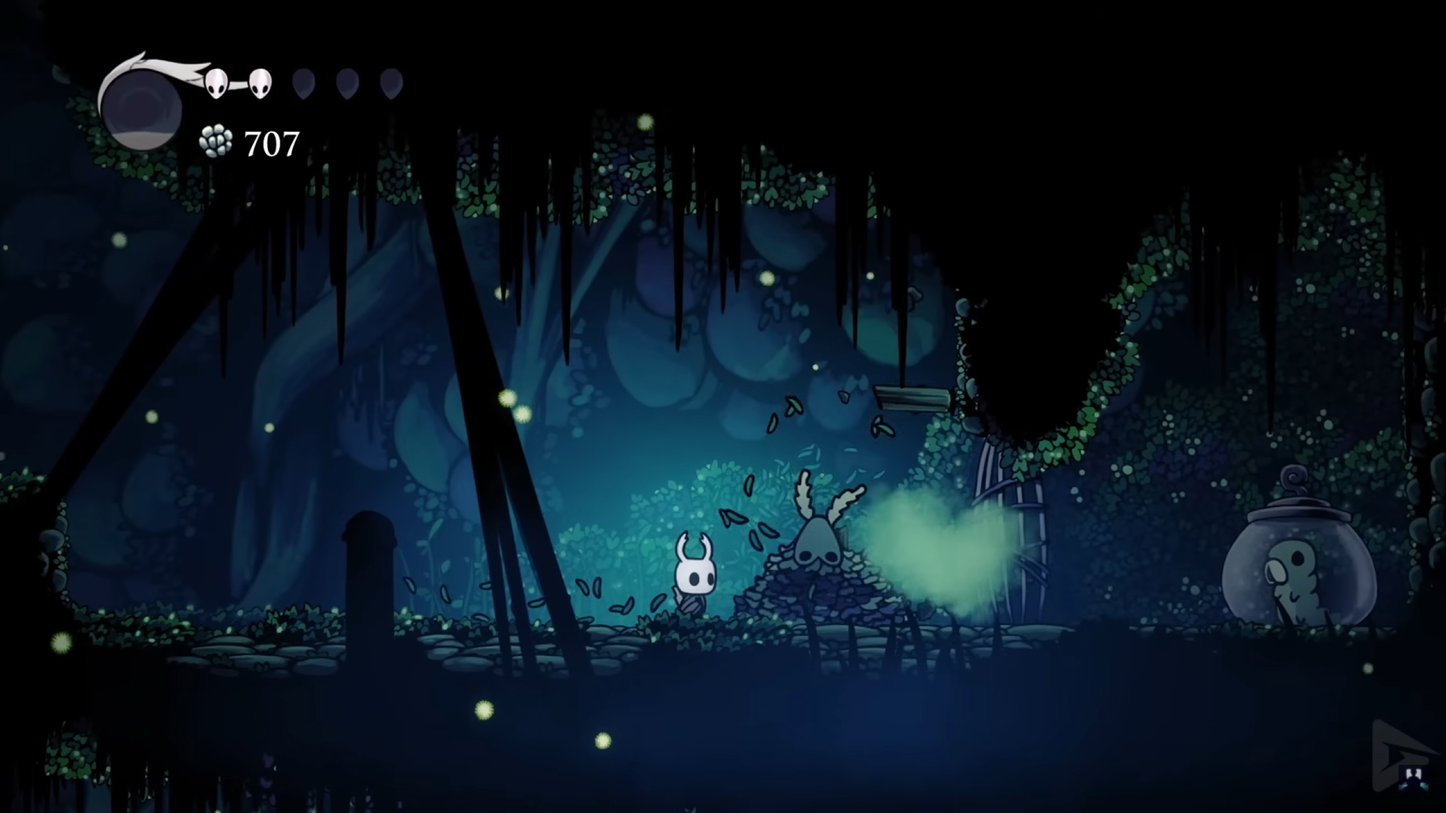HK: (665, 528, 721, 623)
